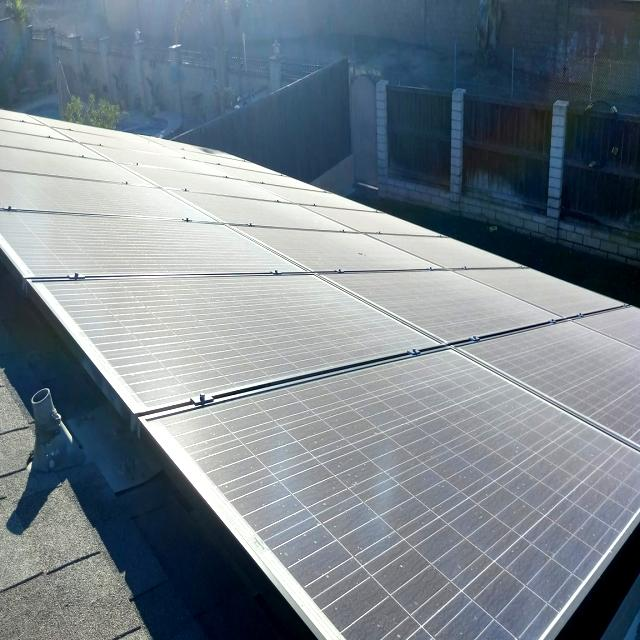dust: (278, 466, 530, 632), (64, 191, 269, 260), (96, 268, 208, 386), (404, 356, 538, 452), (228, 275, 362, 349), (284, 186, 386, 281), (544, 414, 616, 530), (259, 390, 392, 450), (0, 120, 59, 243), (82, 142, 208, 198), (546, 310, 630, 390), (382, 272, 501, 326)
